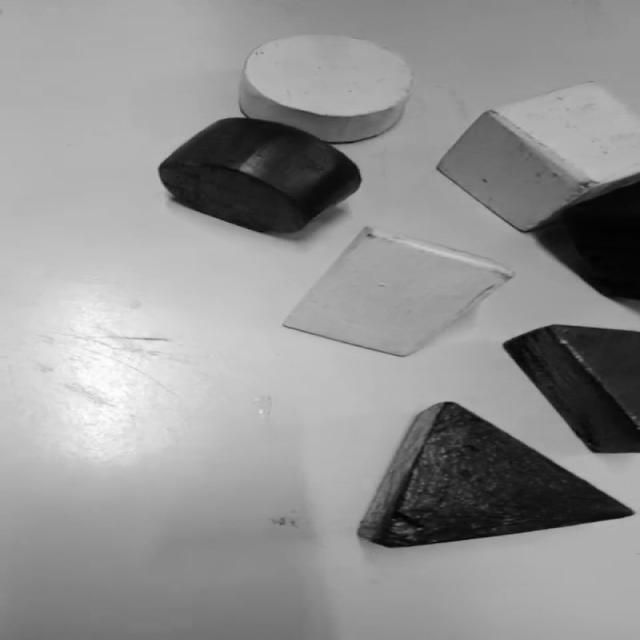btriangle: (358, 402, 633, 548)
rcircle: (159, 118, 361, 234)
ycircle: (239, 34, 417, 143)
ycube: (438, 82, 639, 231)
ytriangle: (283, 228, 514, 356)
